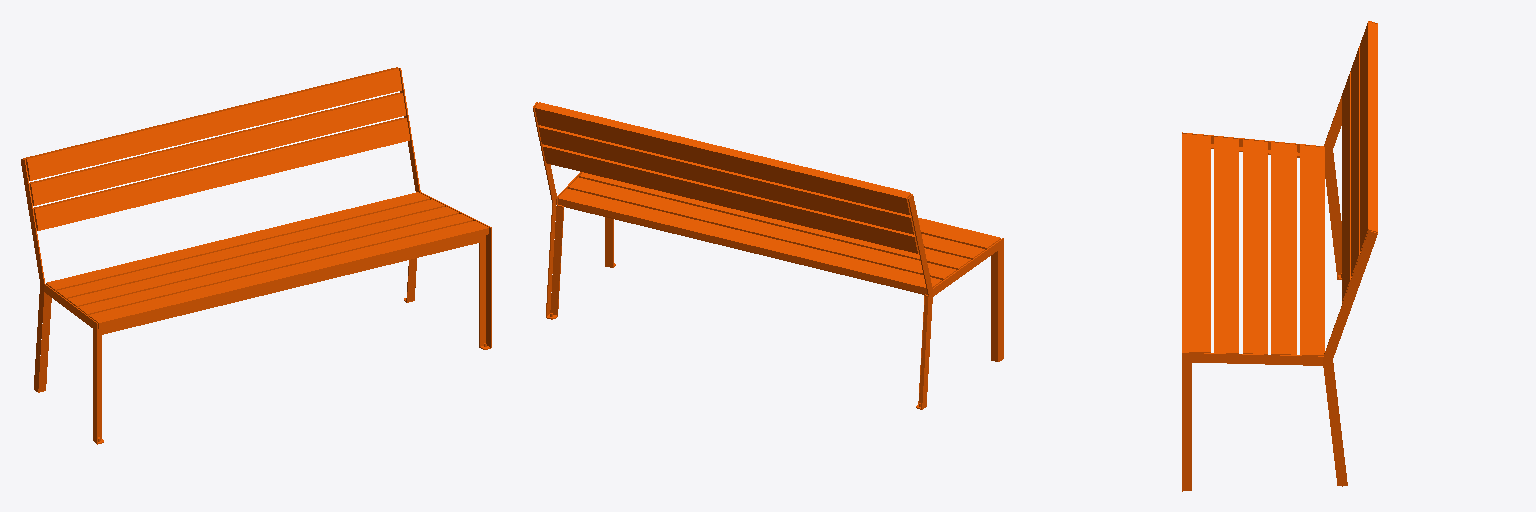
URDF robot description (Bench_65e7b3316245780bb5512a11bb8b2bf4):
<?xml version="1.0" ?>
<robot name="Bench_65e7b3316245780bb5512a11bb8b2bf4">
   <material name="obj_color">
      <color rgba="1.0 0.423529411765 0.0392156862745 1.0"/>
   </material>
   <link name="top">
      <inertial>
         <origin rpy="1.698996050638758e-05 5.306246339165782e-05 6.083422860295906e-05" xyz="0.0003068430477537558 -0.001180930035263225 -0.007544880654157459"/>
         <mass value="0.08474912775080727"/>
         <inertia ixx="1.698996052785607e-05" ixy="9.506222822852024e-10" ixz="2.539802373906213e-12" iyy="5.935047052005493e-05" iyz="-3.054485440250922e-06" izz="5.454622145309346e-05"/>
      </inertial>
      <visual>
         <origin rpy="0 0 0" xyz="0 0 0"/>
         <geometry>
            <mesh filename="top_watertight_tiny.stl" scale="1 1 1"/>
         </geometry>
         <material name="obj_color"/>
      </visual>
      <collision>
         <origin rpy="0 0 0" xyz="0 0 0"/>
         <geometry>
            <mesh filename="top_watertight_tiny.obj" scale="1 1 1"/>
         </geometry>
      </collision>
   </link>
   <link name="bottom">
      <inertial>
         <origin rpy="1.633333333199431e-08 1.633333333199431e-08 1.633333333362855e-08" xyz="0.3464080000000008 0.3464080000000008 0.3464080000000008"/>
         <mass value="0.0009800000000000017"/>
         <inertia ixx="1.633333333253906e-08" ixy="5.447480642029219e-19" ixz="5.447480642029219e-19" iyy="1.633333333253906e-08" iyz="5.447480642029219e-19" izz="1.633333333253906e-08"/>
      </inertial>
      <visual>
         <origin rpy="0 0 0" xyz="0 0 0"/>
         <geometry>
            <mesh filename="bottom_watertight_tiny.stl" scale="1 1 1"/>
         </geometry>
         <material name="obj_color"/>
      </visual>
   </link>
   <link name="world"/>
   <joint name="world_to_base" type="fixed">
      <origin xyz="0 0 0"/>
      <axis xyz="0 0 0"/>
      <parent link="world"/>
      <child link="bottom"/>
   </joint>
   <joint name="rotation" type="revolute">
      <origin xyz="0 0 0"/>
      <axis xyz="0 0 -1"/>
      <parent link="bottom"/>
      <child link="top"/>
      <dynamics damping="1.0" friction="1.0"/>
      <limit effort="0.1" velocity="0.1" lower="0" upper="0.001"/>
   </joint>
</robot>

--- Render facts (derived) ---
3 views of the same robot in one strip: view 1: azimuth 30°, elevation 25°; view 2: azimuth 150°, elevation 25°; view 3: azimuth 270°, elevation 25° (orthographic).
Model Bench_65e7b3316245780bb5512a11bb8b2bf4 with 3 links and 2 joints (1 revolute, 1 fixed), rooted at world, posed every joint at zero.
Links seen in each view (by area): view 1: top; view 2: top; view 3: top.
Link boxes in pixels (bbox=[...]): top: bbox=[21, 67, 491, 444]; top: bbox=[533, 102, 1003, 409]; top: bbox=[1182, 21, 1377, 491].
Size in the robot's own frame: 0.0849 by 0.032 by 0.0462 metres.
Meshes: 2 distinct files referenced, 1 mesh visuals loaded (1 binary STL); not drawn: 1 (reference not matched to a file when rendering).
